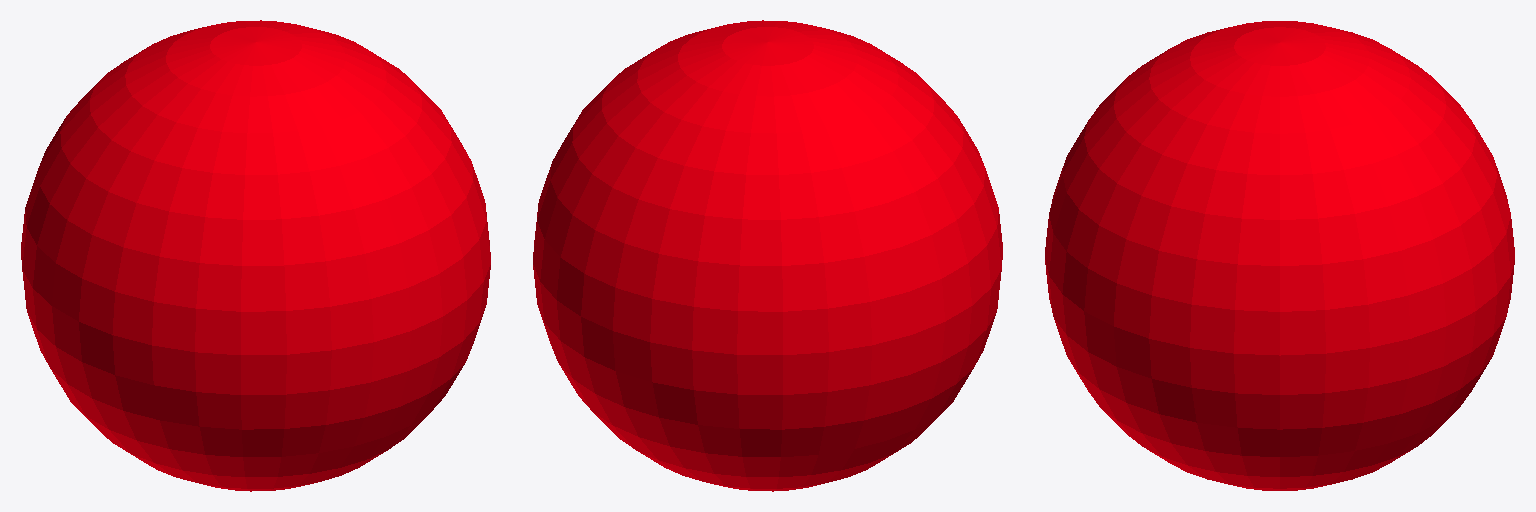
robot.urdf — red_sphere:
<?xml version="1.0"?>
<robot name="red_sphere">
  <link name="base_link">
    <visual>
      <geometry>
        <sphere radius="0.03"/>
      </geometry>
      <material name="green">
            <color rgba="1 0 0.1 1"/>
      </material>
    </visual>
    <inertial>
        <origin xyz="0 0 0" rpy="0 0 0" />
        <mass value="0" />
        <inertia ixx="0.0" ixy="0.0" ixz="0.0" iyy="0.0" iyz="0.0" izz="0.0" />
     </inertial>
  </link>
</robot>

--- Render facts (derived) ---
Views: 3 orthographic renders of the robot side by side, from view 1: azimuth 30°, elevation 25°; view 2: azimuth 150°, elevation 25°; view 3: azimuth 270°, elevation 25°.
Robot: red_sphere — 1 links, 0 joints (none); root link base_link; default pose: every joint at zero.
Links seen in each view (by area): view 1: base_link; view 2: base_link; view 3: base_link.
Boxes of the visible links, x1=… form: base_link: x1=21, y1=20, x2=490, y2=491; base_link: x1=533, y1=20, x2=1002, y2=491; base_link: x1=1045, y1=21, x2=1514, y2=490.
Size in the robot's own frame: 0.06 by 0.06 by 0.06 metres.
Geometry: primitives only (box / cylinder / sphere), no mesh files.